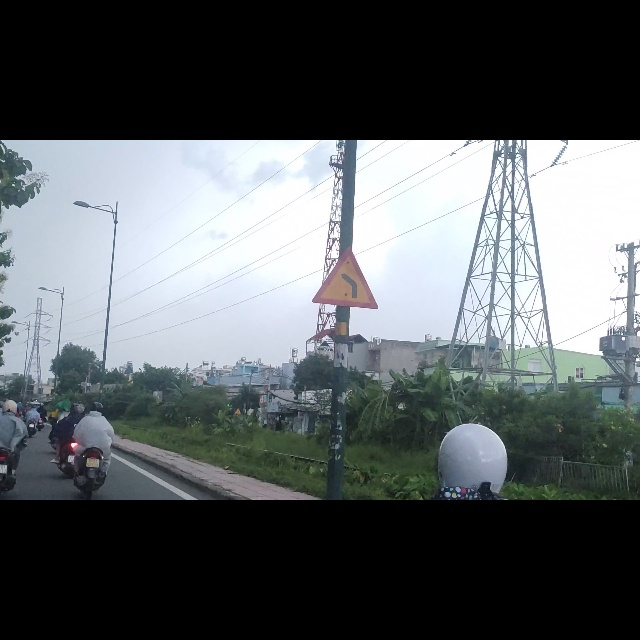bien_nguy_hiem: (313, 190, 380, 300)
